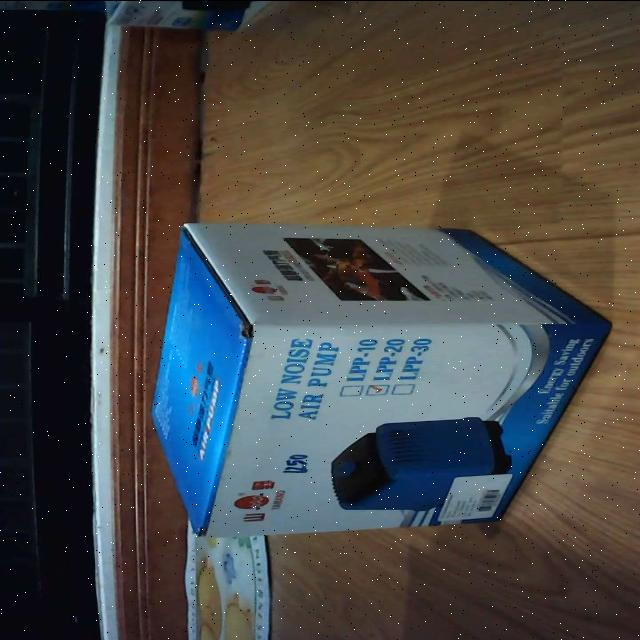YAMANO_LPP_20: (143, 216, 619, 542)
